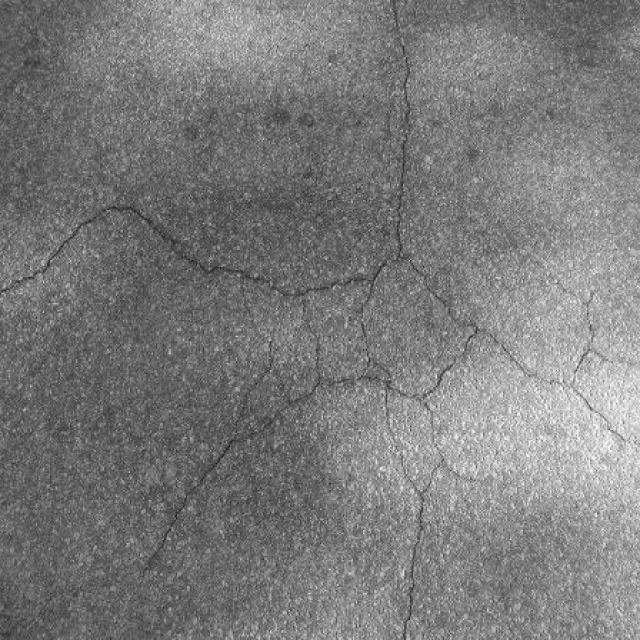Crack: (0, 4, 459, 549), (419, 262, 632, 446), (401, 430, 450, 639)
